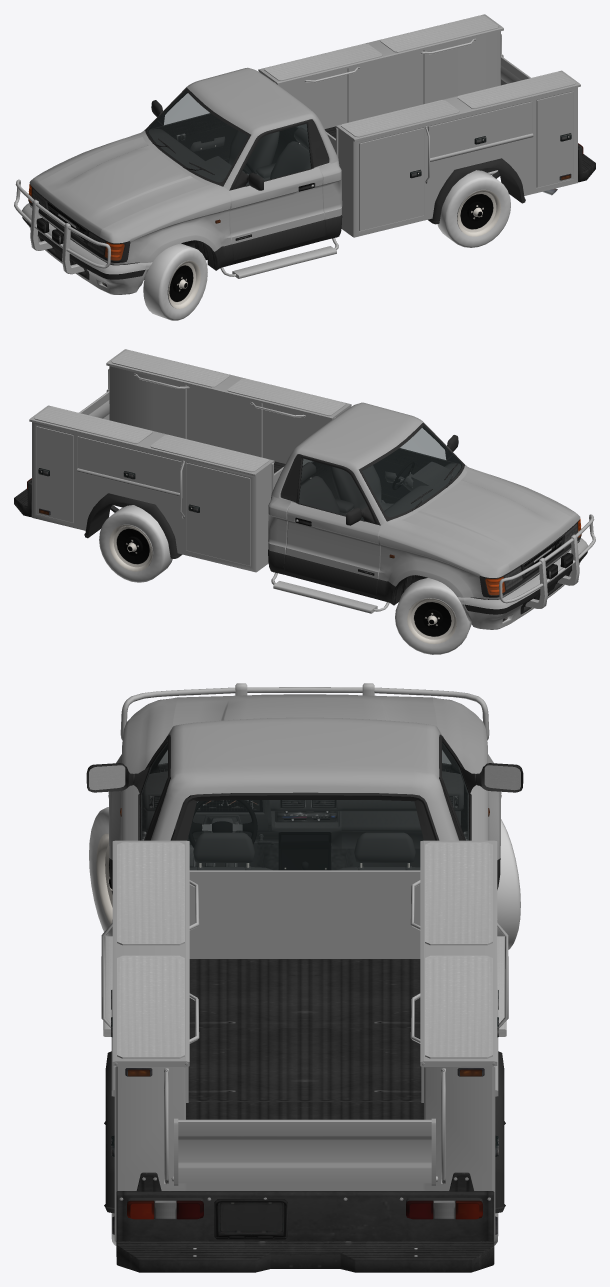
3 views of the same model, one above another, from view 1: azimuth 30°, elevation 25°; view 2: azimuth 150°, elevation 25°; view 3: azimuth 270°, elevation 25° (orthographic). The views are drawn at different scales.
Parts seen in each view (by area): view 1: Utility_trunk_UTLTRUCK90_body_0, Utility_trunk_bottom_UCB_BOTTOM_0, Hood_UTLTRUCK90_body_0, cab_Body_UTLTRUCK90_body_0, Fender_FL_UTLTRUCK90_body_0, Door_FL_UTLTRUCK90_body_0, Windshield_UCB_GLASS_CLEAN_0, Door_inner_FL_UCB_BOTTOM_0, Wheel_FL_wp_tire_01_0, Wheel_RL_wp_tire_01_0, Cab_bottom_UCB_BOTTOM_0, Doorglass_FL_UCB_GLASS_CLEAN_0 (+18 smaller); view 2: Utility_trunk_UTLTRUCK90_body_0, Utility_trunk_bottom_UCB_BOTTOM_0, Hood_UTLTRUCK90_body_0, cab_Body_UTLTRUCK90_body_0, Fender_FR_UTLTRUCK90_body_0, Door_FR_UTLTRUCK90_body_0, Windshield_UCB_GLASS_CLEAN_0, Door_inner_FR_UCB_BOTTOM_0, Wheel_RR_wp_tire_01_0, Wheel_FR_wp_tire_01_0, Doorglass_FR_UCB_GLASS_CLEAN_0, Cab_bottom_UCB_BOTTOM_0 (+17 smaller); view 3: Utility_trunk_bottom_UCB_BOTTOM_0, Utility_trunk_UTLTRUCK90_body_0, Bumper_rear_UCB_BOTTOM_0, cab_Body_UTLTRUCK90_body_0, Trunkdoor_UTLTRUCK90_body_0, Glass_Rear_UCB_GLASS_CLEAN_0, Dashboard_krmlgtbdy85_interior_0, Hood_UTLTRUCK90_body_0, Fender_FL_UTLTRUCK90_body_0, Fender_FR_UTLTRUCK90_body_0, Cab_bottom_UCB_BOTTOM_0, Bullbar_UCB_BOTTOM_0 (+17 smaller).
Boxes of the visible parts, x1,y1,x2,y2 form: Utility_trunk_UTLTRUCK90_body_0: (258, 14, 580, 237); Utility_trunk_bottom_UCB_BOTTOM_0: (264, 15, 575, 224); Hood_UTLTRUCK90_body_0: (36, 137, 207, 236); cab_Body_UTLTRUCK90_body_0: (38, 67, 342, 258); Fender_FL_UTLTRUCK90_body_0: (99, 183, 231, 264); Door_FL_UTLTRUCK90_body_0: (229, 167, 324, 244); Windshield_UCB_GLASS_CLEAN_0: (148, 91, 247, 181); Door_inner_FL_UCB_BOTTOM_0: (229, 120, 325, 260); Wheel_FL_wp_tire_01_0: (143, 243, 207, 320); Wheel_RL_wp_tire_01_0: (437, 170, 510, 247); Cab_bottom_UCB_BOTTOM_0: (43, 87, 342, 265); Doorglass_FL_UCB_GLASS_CLEAN_0: (243, 124, 310, 185); Utility_trunk_UTLTRUCK90_body_0: (29, 349, 351, 572); Utility_trunk_bottom_UCB_BOTTOM_0: (34, 350, 345, 558); Hood_UTLTRUCK90_body_0: (402, 471, 573, 571); cab_Body_UTLTRUCK90_body_0: (268, 402, 571, 592); Fender_FR_UTLTRUCK90_body_0: (378, 517, 510, 599); Door_FR_UTLTRUCK90_body_0: (285, 502, 380, 579); Windshield_UCB_GLASS_CLEAN_0: (362, 426, 461, 516); Door_inner_FR_UCB_BOTTOM_0: (284, 454, 380, 595); Wheel_RR_wp_tire_01_0: (99, 505, 172, 582); Wheel_FR_wp_tire_01_0: (395, 578, 471, 654); Doorglass_FR_UCB_GLASS_CLEAN_0: (299, 459, 366, 519); Cab_bottom_UCB_BOTTOM_0: (268, 422, 566, 599); Utility_trunk_bottom_UCB_BOTTOM_0: (101, 842, 508, 1234); Utility_trunk_UTLTRUCK90_body_0: (111, 840, 498, 1256); Bumper_rear_UCB_BOTTOM_0: (116, 1172, 494, 1272); cab_Body_UTLTRUCK90_body_0: (151, 717, 458, 840); Trunkdoor_UTLTRUCK90_body_0: (171, 1118, 438, 1185); Glass_Rear_UCB_GLASS_CLEAN_0: (188, 800, 423, 869); Dashboard_krmlgtbdy85_interior_0: (143, 771, 463, 870); Hood_UTLTRUCK90_body_0: (172, 694, 437, 726); Fender_FL_UTLTRUCK90_body_0: (109, 697, 177, 859); Fender_FR_UTLTRUCK90_body_0: (432, 697, 500, 859); Cab_bottom_UCB_BOTTOM_0: (146, 763, 463, 840); Bullbar_UCB_BOTTOM_0: (120, 683, 489, 740).
Bounding box in the file's own units: 5.37 × 1.62 × 2.
